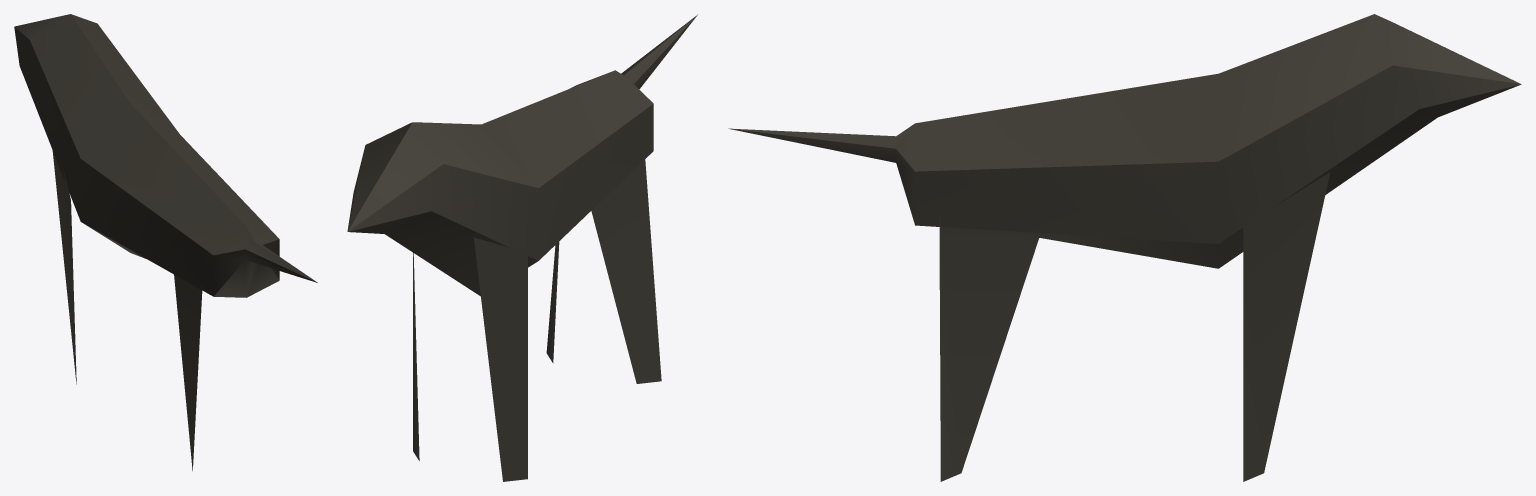
The model's file is WolfLOD.obj.
The picture shows the model from 3 angles, left to right: view 1: azimuth 30°, elevation 25°; view 2: azimuth 150°, elevation 25°; view 3: azimuth 270°, elevation 25°; orthographic projection. The views are drawn at different scales.
Visible parts, largest first — view 1: LOD; view 2: LOD; view 3: LOD.
Part boxes in pixels (x1,y1,x2,y2): LOD: [14, 14, 317, 471]; LOD: [347, 14, 697, 481]; LOD: [728, 14, 1521, 481].
Bounding box in the file's own units: 6.48 × 20.72 × 34.22.
